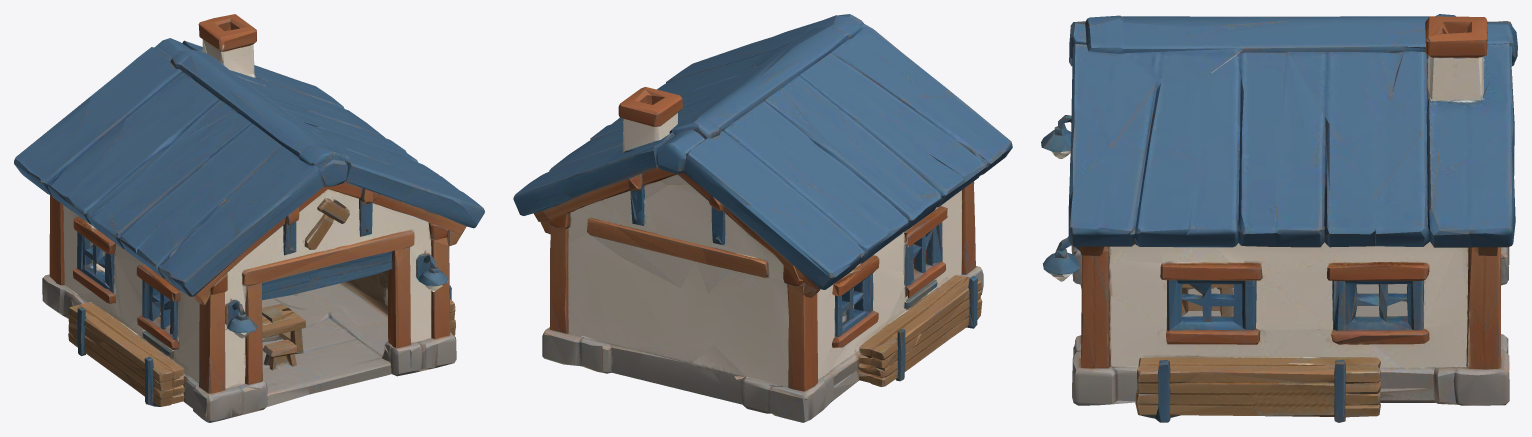
The model's file is workshop.glb.
3 renders of one model, left to right at view 1: azimuth 30°, elevation 25°; view 2: azimuth 150°, elevation 25°; view 3: azimuth 270°, elevation 25°, orthographic. The views are drawn at different scales.
Visible parts, largest first — view 1: Mesh_0; view 2: Mesh_0; view 3: Mesh_0.
Boxes of the visible parts, x1,y1,x2,y2 form: Mesh_0: [14, 14, 484, 422]; Mesh_0: [513, 14, 1012, 422]; Mesh_0: [1041, 14, 1517, 422].
Bounding box in the file's own units: 2.89 × 2.28 × 3.
1 material, 1 textured.
